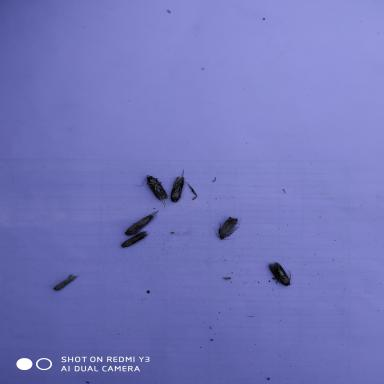pbw: (134, 175, 168, 208), (124, 210, 159, 236), (212, 216, 240, 240), (269, 262, 291, 286), (120, 231, 148, 248), (170, 169, 184, 202), (54, 274, 76, 291)
